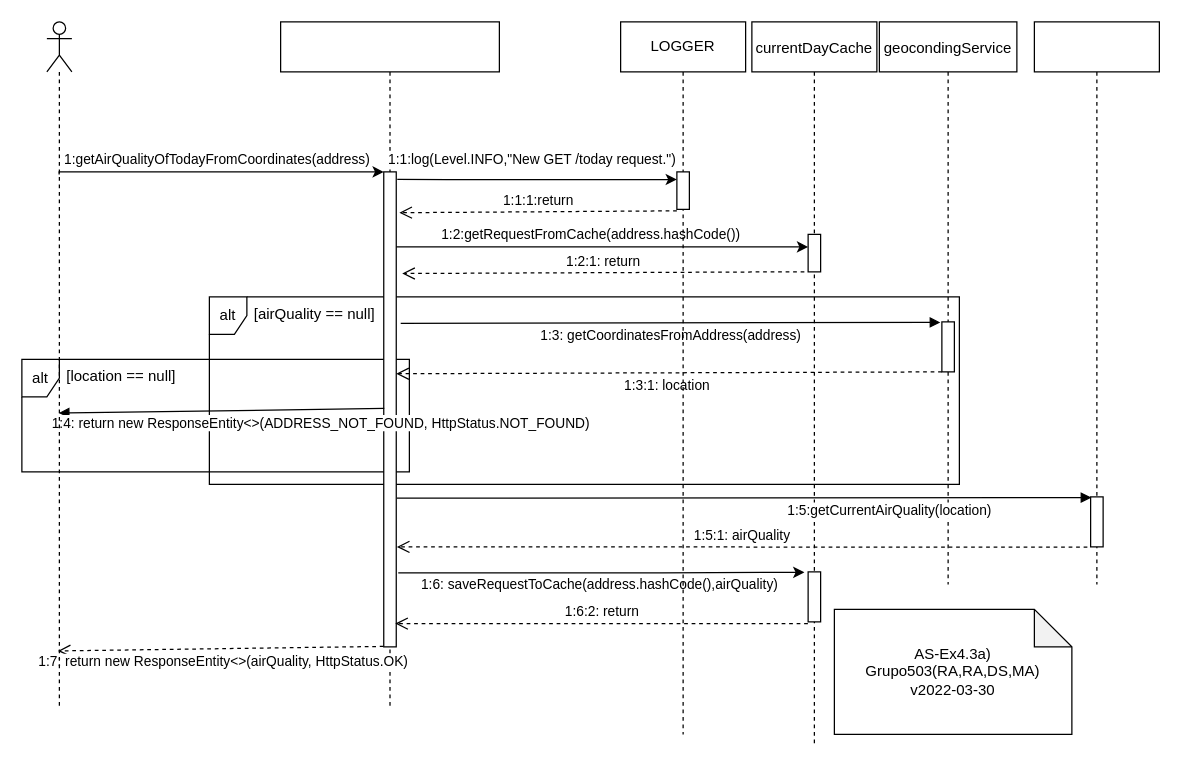
Some shapes in this 1181 by 769 pixel diagram are drawn without their labels. The box of each missing label's shape, as (x1, y1, x2, y2) in pixels:
airQualityRestController: (279, 21, 499, 709)
airQualityService: (1033, 21, 1159, 584)
Ator: (46, 21, 72, 709)
